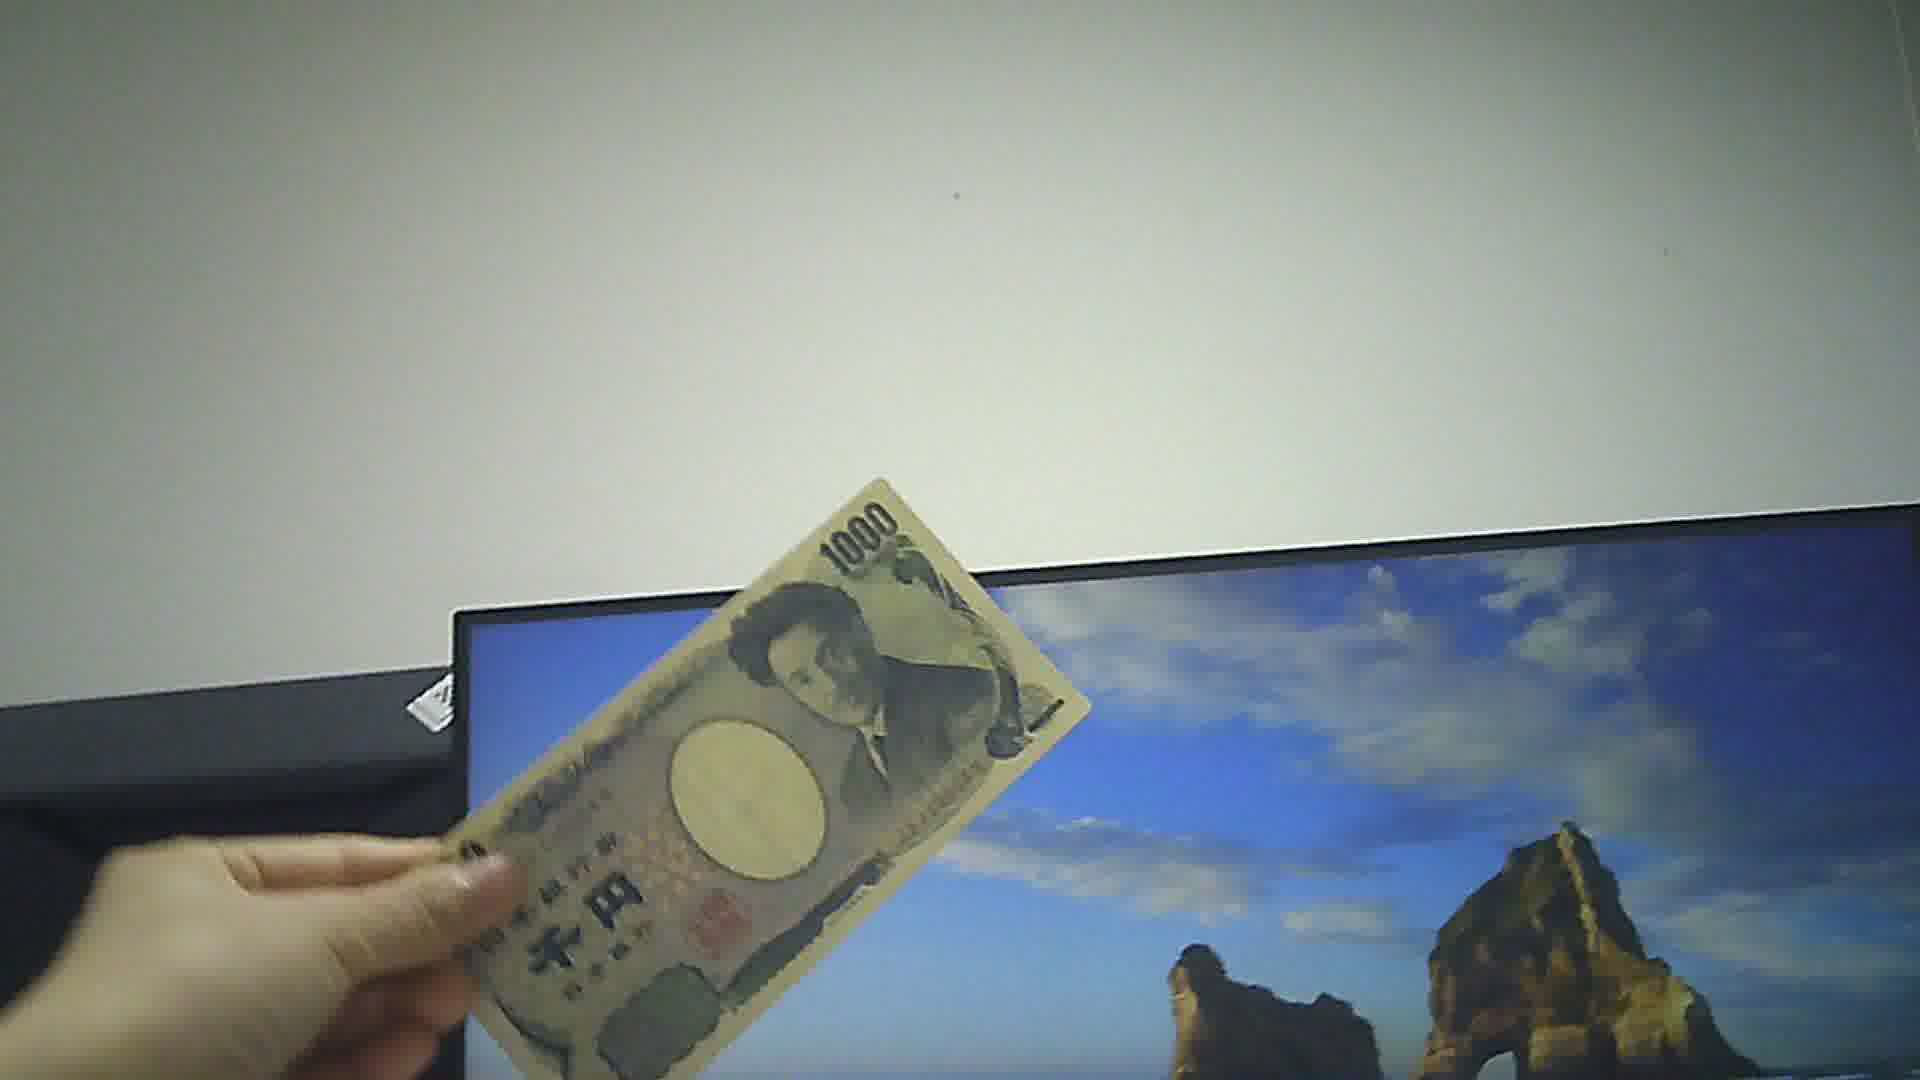1,000 Yen: (382, 454, 1089, 1079)
